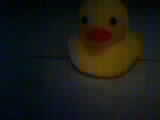duck: (72, 8, 135, 73)
